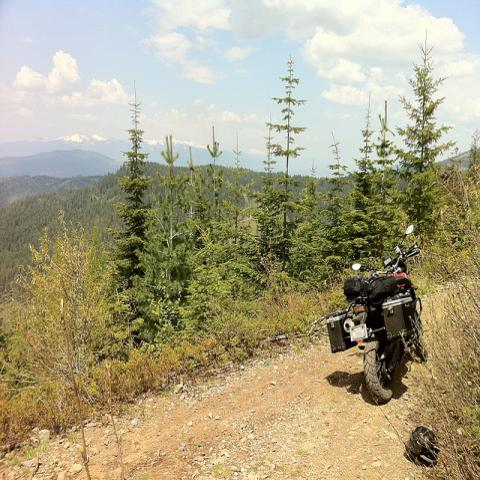motorcycle: (328, 220, 424, 406)
